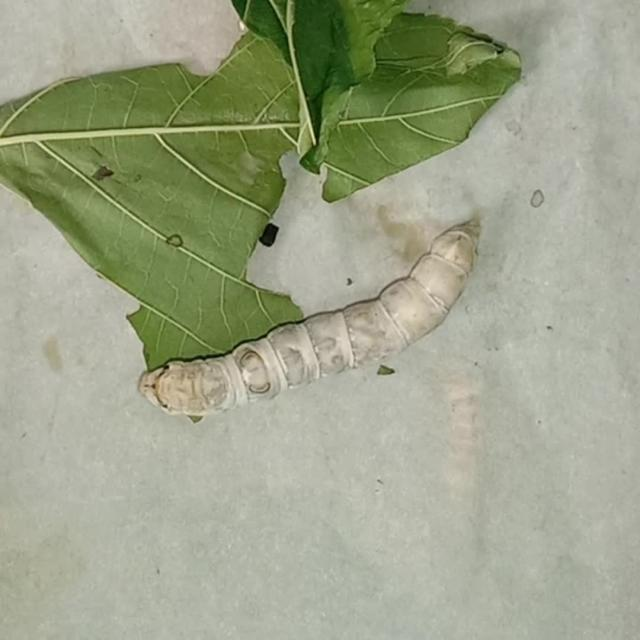Grasserie: (126, 206, 490, 430)
